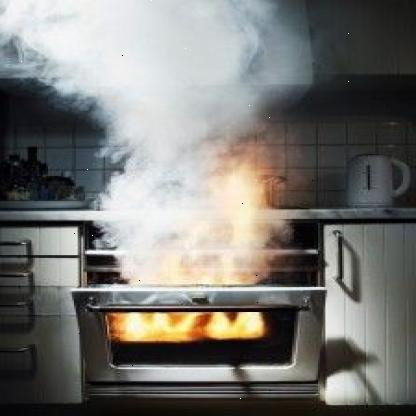fire: (101, 156, 262, 343)
smoke: (0, 3, 292, 282)
